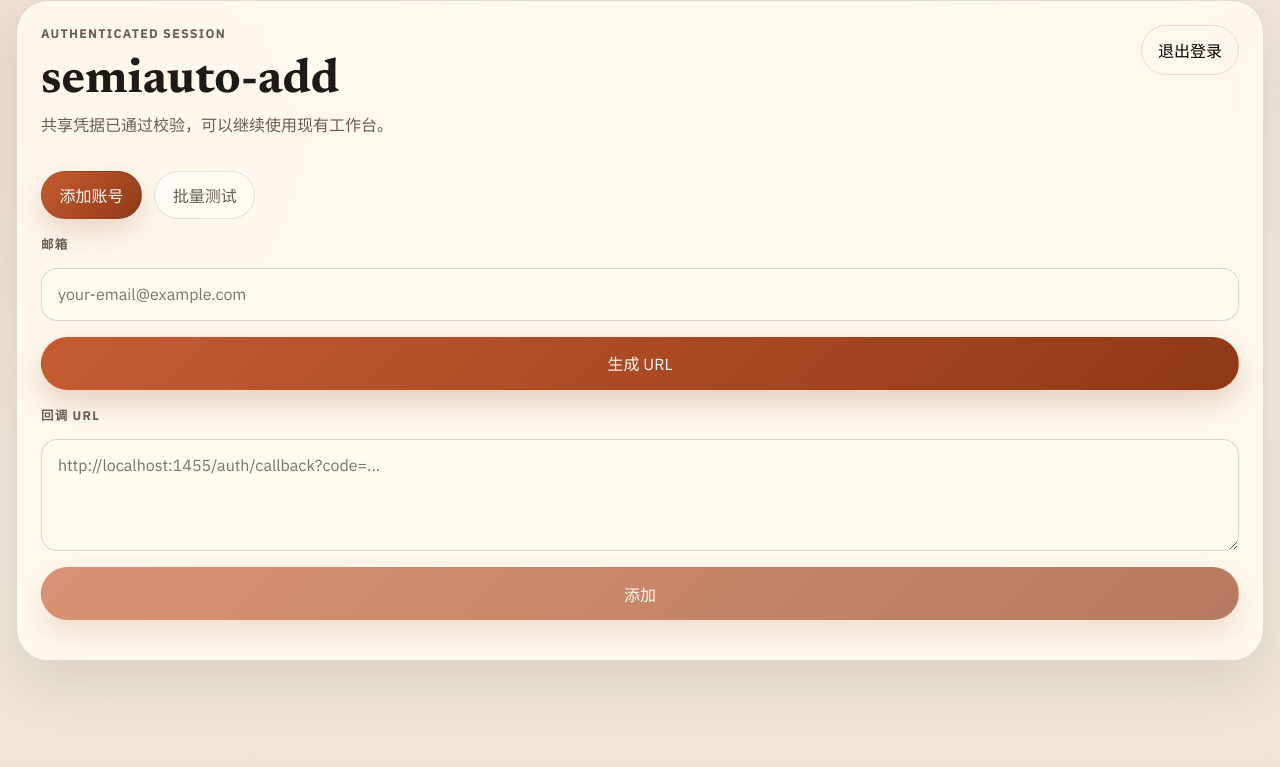
Test case: SemiAutoWorkbench batch-test tab › supports switching page size
Step 1. Click the tab "批量测试" → point(205, 195), box [154,171,255,219]
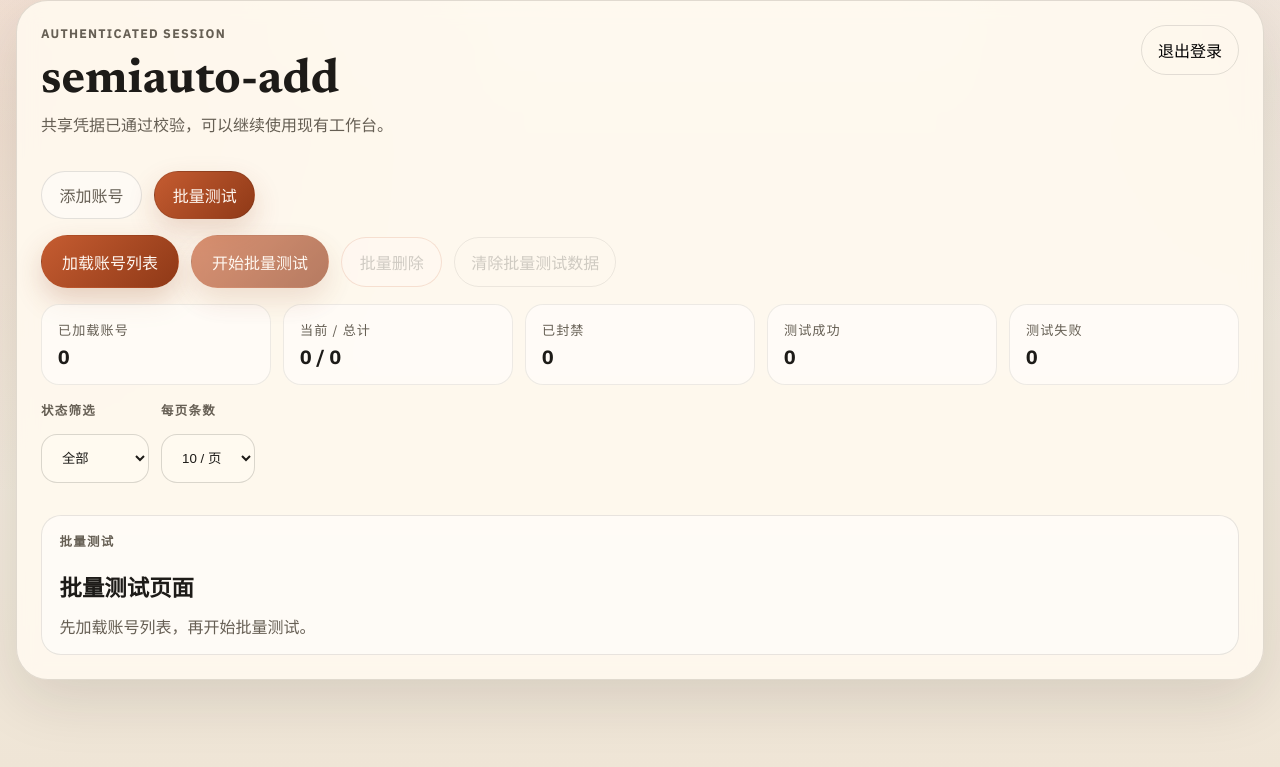
Step 2. Click the button "加载账号列表" → point(110, 262), box [41,235,179,288]
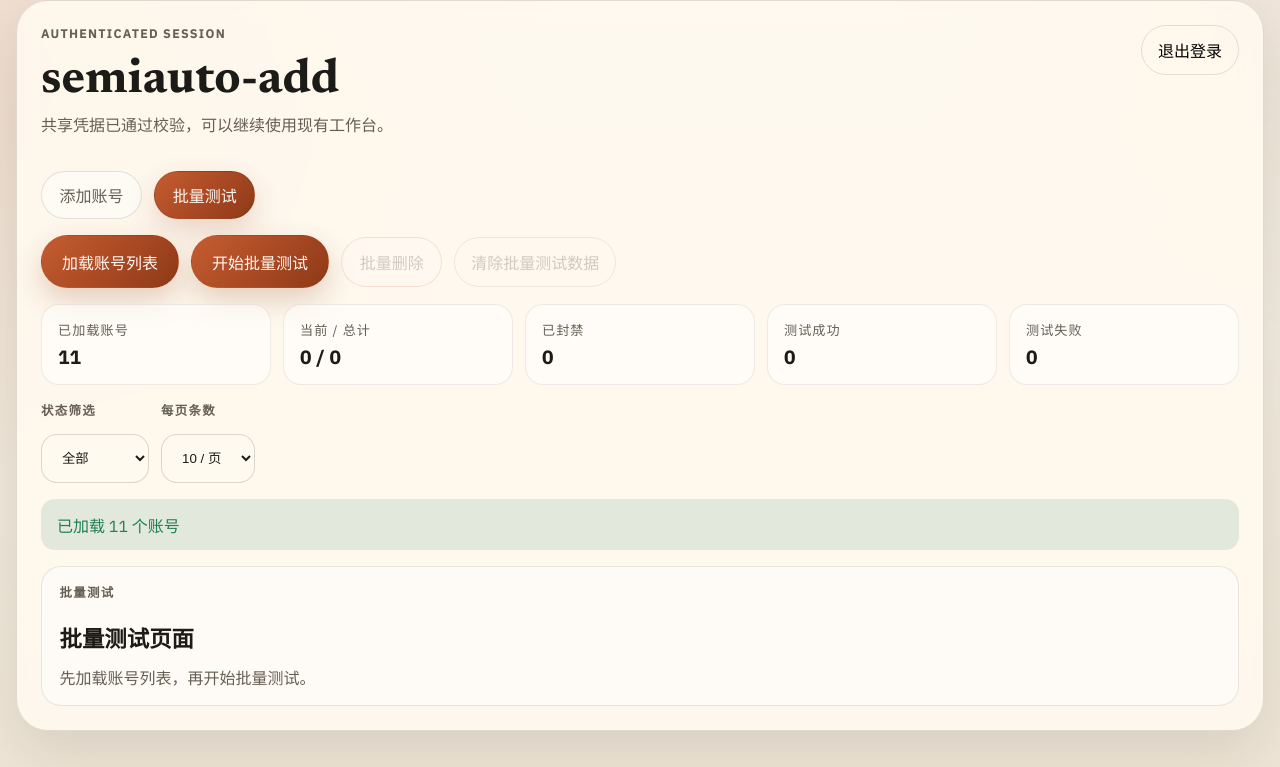
Check: the text "已加载 11 个账号" is shown, box [41,499,1239,550]
Step 3. Click the button "开始批量测试" → point(260, 262), box [191,235,329,288]
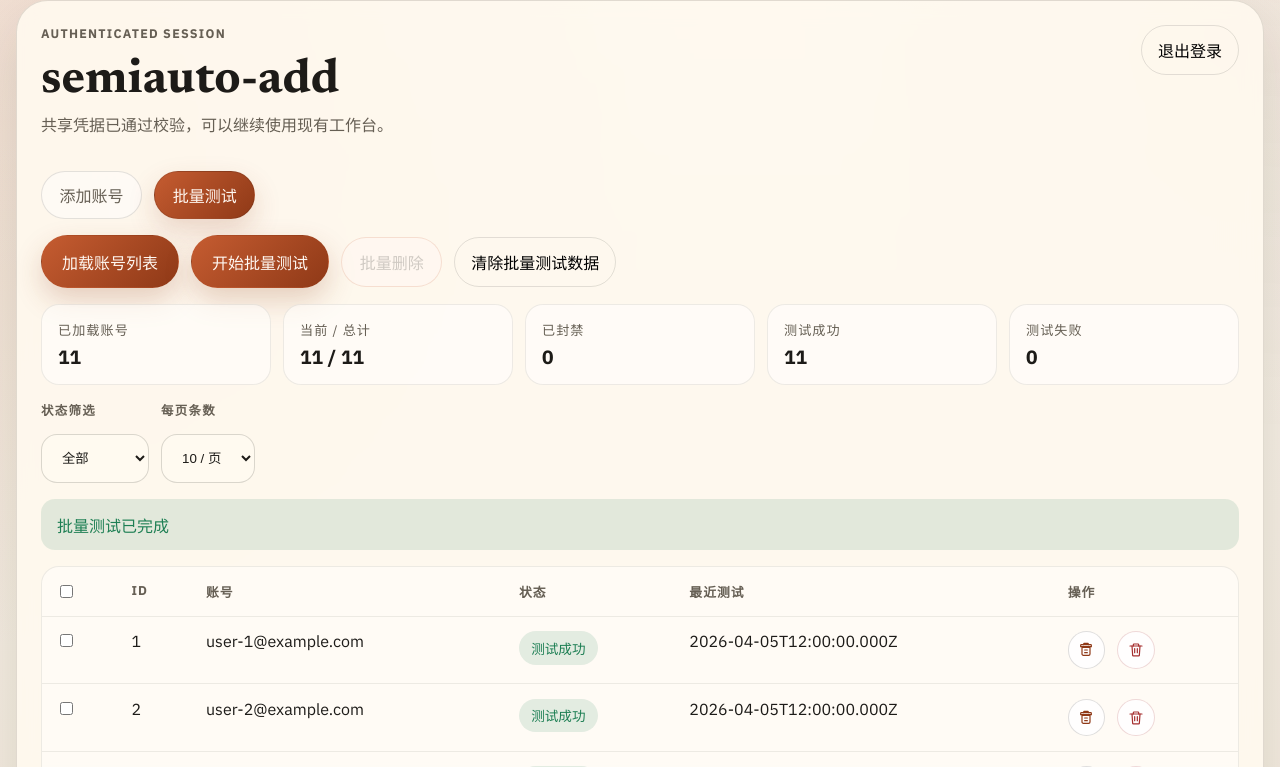
Step 4. Select "20 / 页" in the dropdown labelled "每页条数" → point(208, 458), box [161,434,255,483]
(page scrolled)
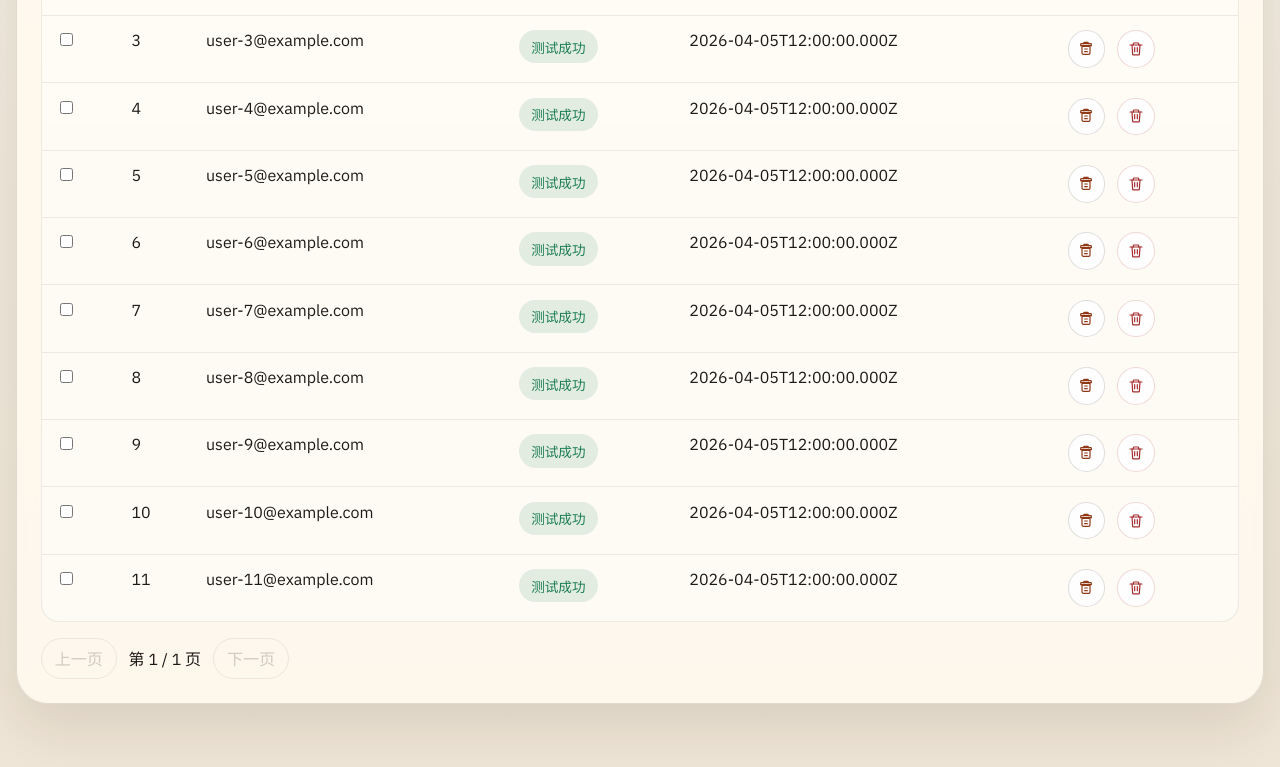
Check: the text "第 1 / 1 页" is shown, box [129,646,201,670]
